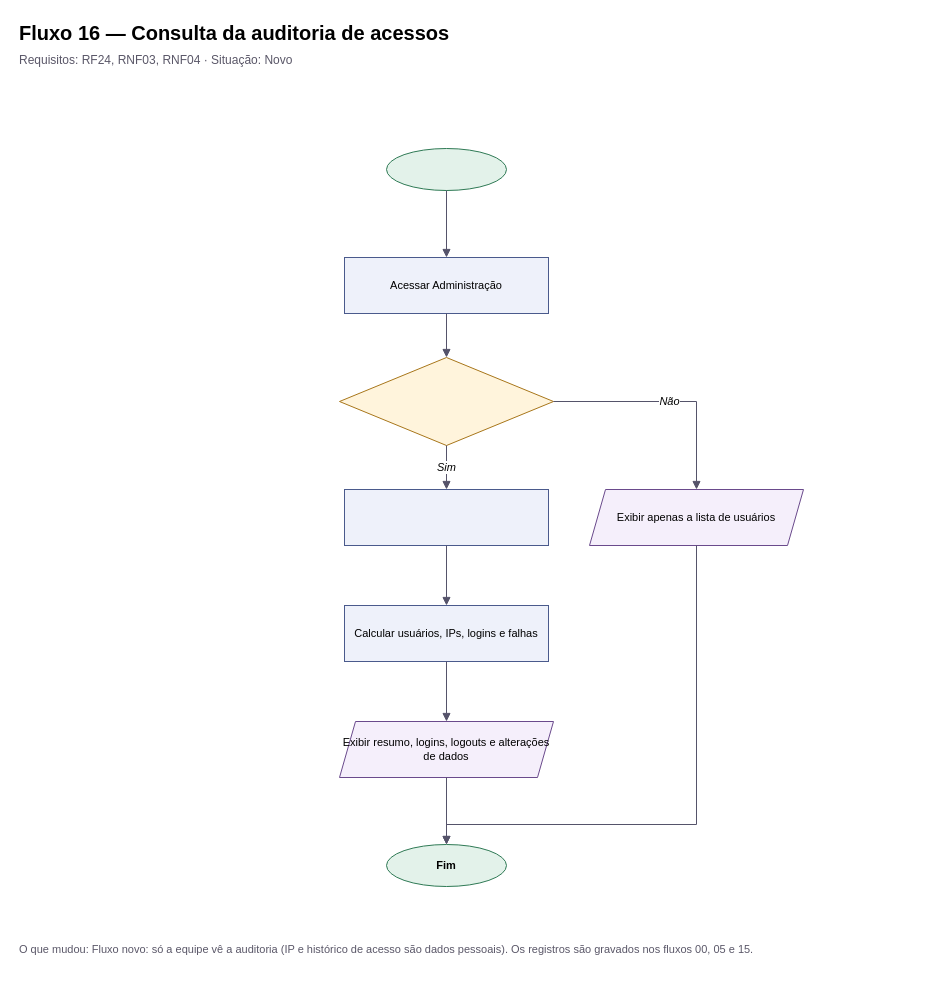
Some shapes in this 934 by 1003 pixel diagram are drawn without their labels. Each missing label, with the centre of its shape:
"Início" goes at point 446,169.
"Ler logs de acesso e de alterações dos últimos 30 dias" goes at point 446,517.
"Usuário é da equipe?" goes at point 446,401.
